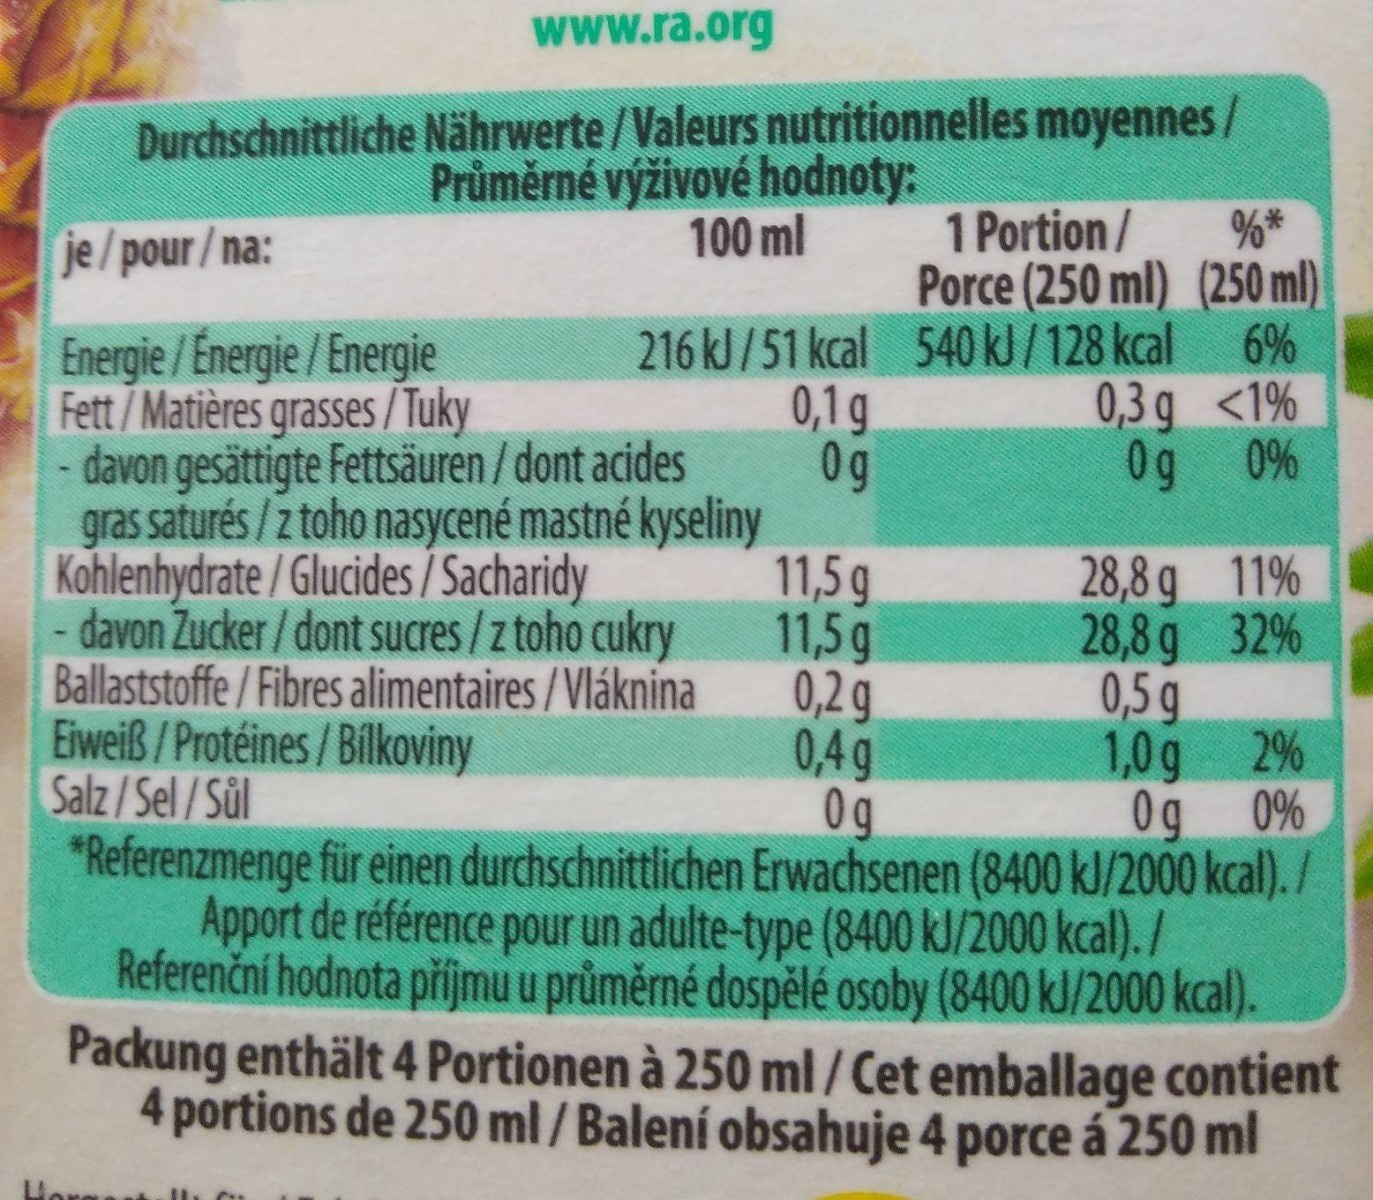column: (50, 209, 871, 837), (915, 207, 1179, 837), (1196, 204, 1323, 837)
table: (19, 79, 1352, 839)
